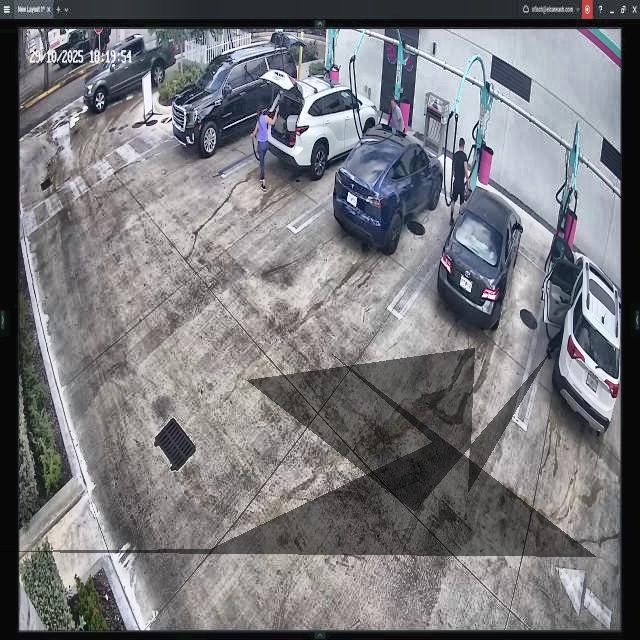Car: (335, 122, 444, 250), (439, 186, 523, 332), (262, 71, 378, 175)
